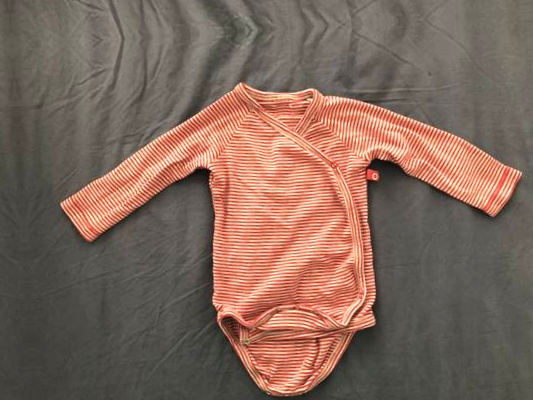Body: (38, 48, 533, 400), (12, 0, 521, 8), (0, 82, 11, 400)
